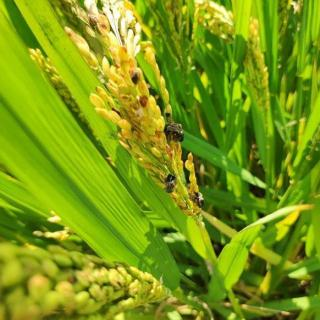Gosong-Palsu: (164, 121, 186, 143), (188, 190, 206, 208), (162, 173, 178, 193)
